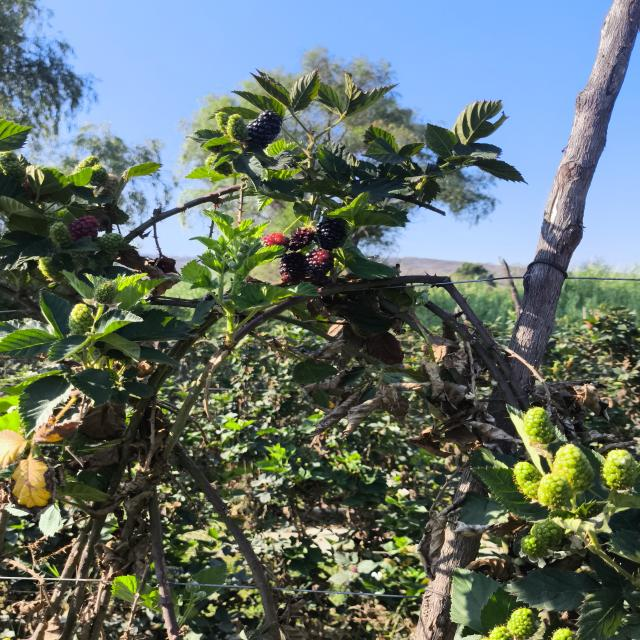maduro: (246, 110, 283, 148), (316, 219, 345, 249)
marron: (305, 248, 334, 285), (279, 253, 306, 284), (68, 216, 99, 241)
verde: (552, 444, 594, 494), (521, 520, 563, 557), (602, 450, 638, 489), (537, 474, 573, 509), (523, 407, 555, 444), (513, 461, 542, 499), (0, 151, 25, 182), (69, 303, 93, 335), (224, 114, 248, 142), (50, 222, 72, 247), (96, 233, 125, 249), (74, 155, 99, 172), (215, 112, 229, 133)
